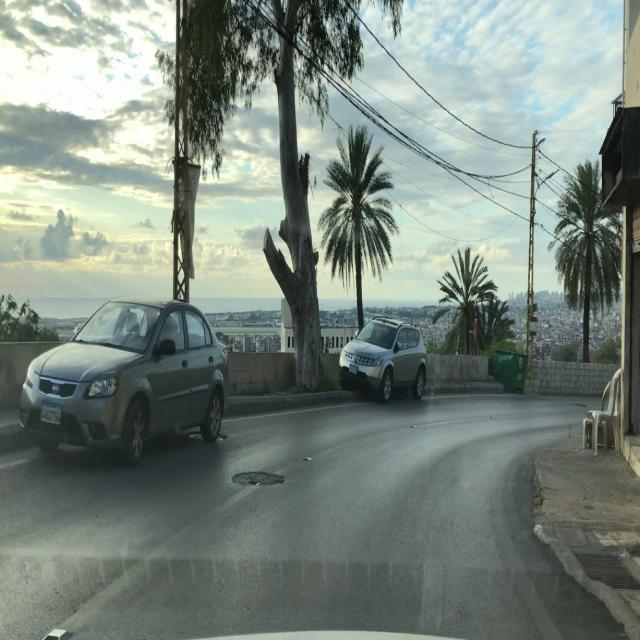Buraco: (230, 470, 287, 487)
